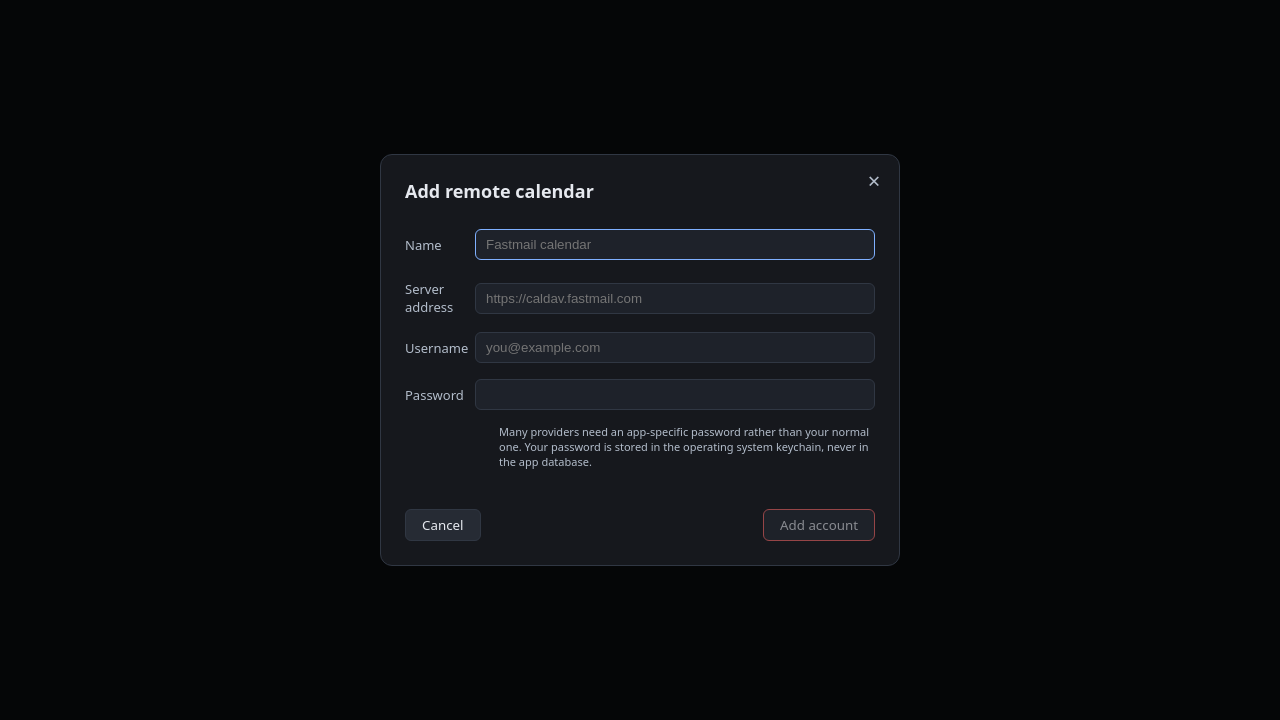
Test: CalDAVAccountsManager › edits the four add fields through setForm and enables submit only once complete
Check: the button "Add account" is disabled, box [763, 509, 875, 541]
In the field with placeholder "Fastmail calendar": (675, 244) [475, 229, 875, 260], type "Work"
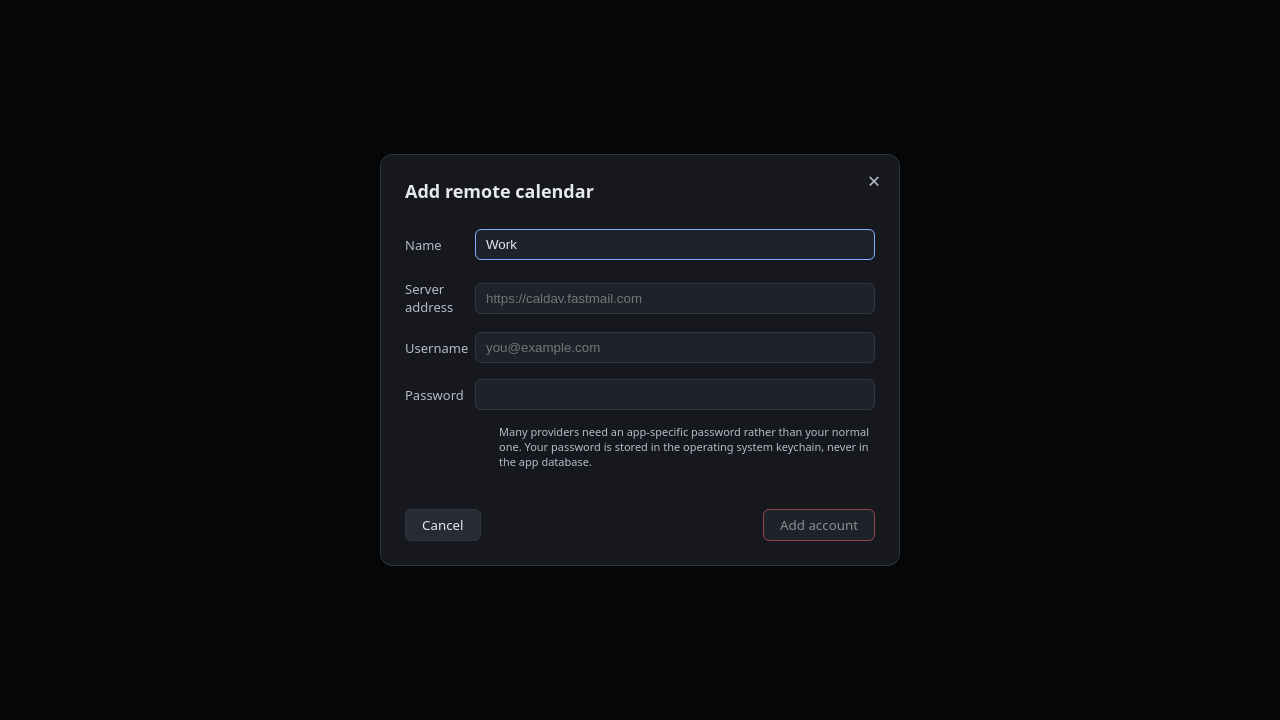
In the field with placeholder "https://caldav.fastmail.com": (675, 298) [475, 282, 875, 314], type "https://d.example.com"
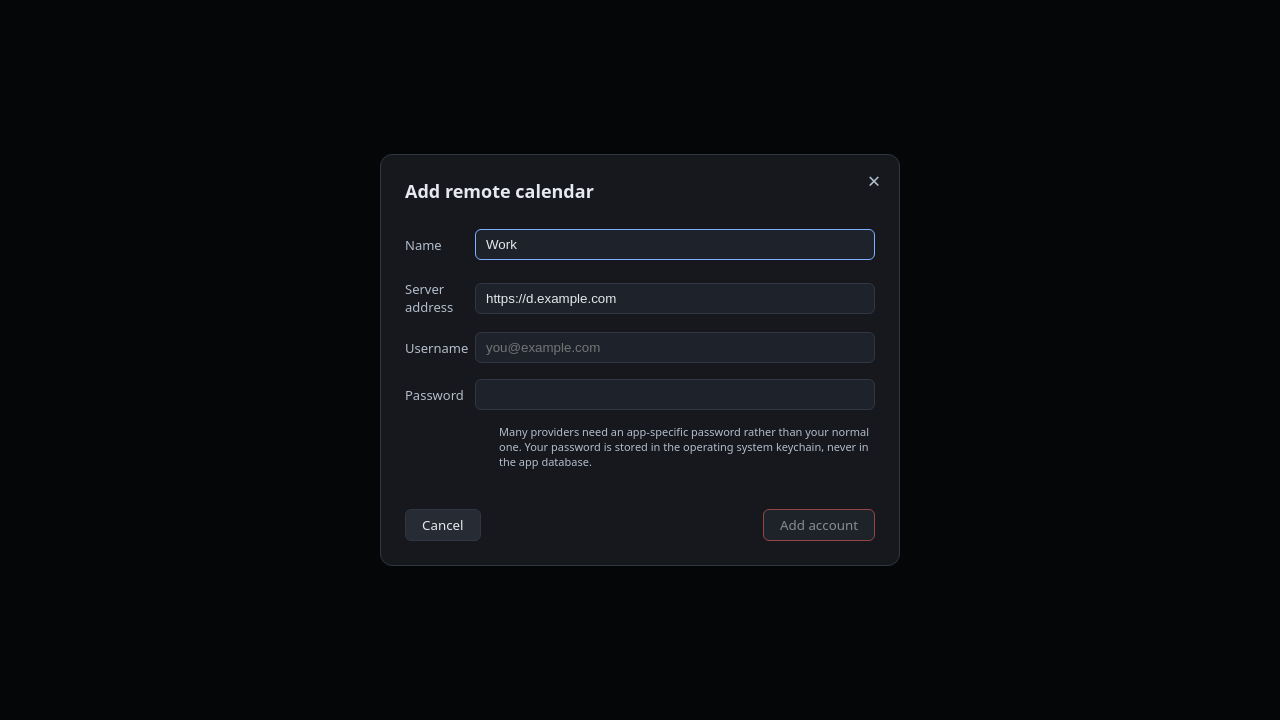
In the field with placeholder "you@example.com": (675, 348) [475, 332, 875, 363], type "u@example.com"
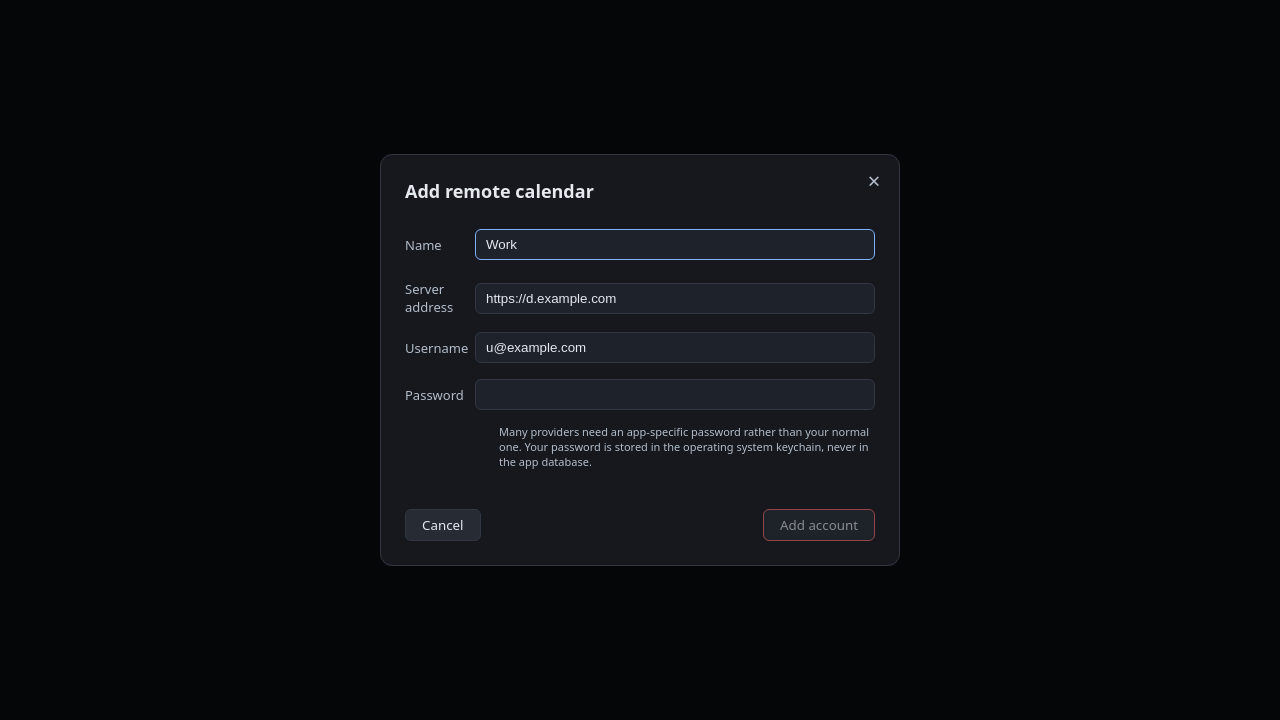
In the password field labelled "Password": (675, 394) [475, 379, 875, 410], type "secret"
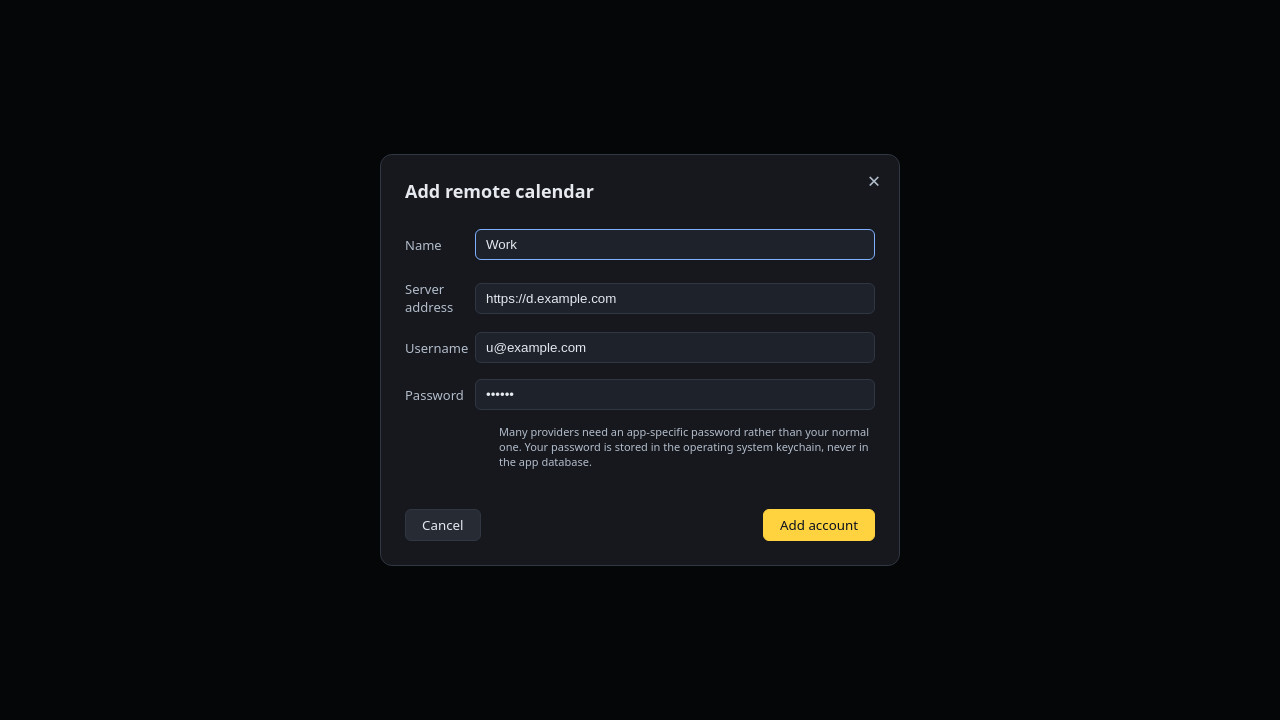
Check: the button "Add account" is enabled, box [763, 509, 875, 541]
